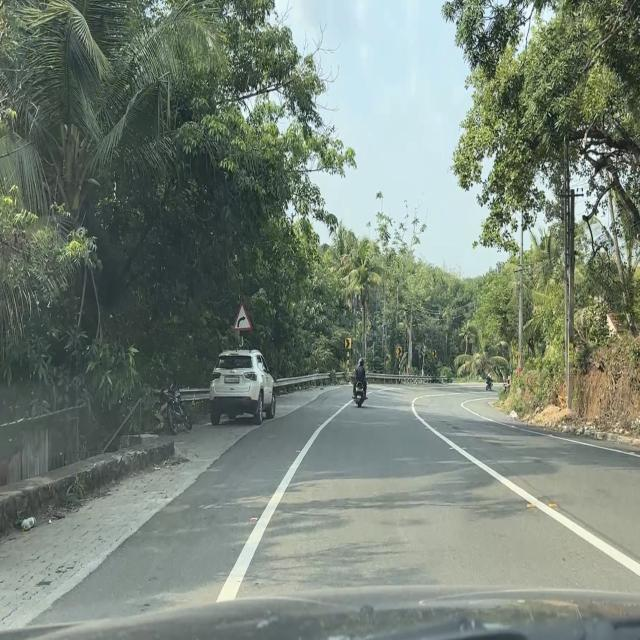RIGHT_TURN_AHEAD: (232, 300, 253, 332)
TURN_RIGHT: (345, 338, 351, 349), (397, 347, 402, 356)
